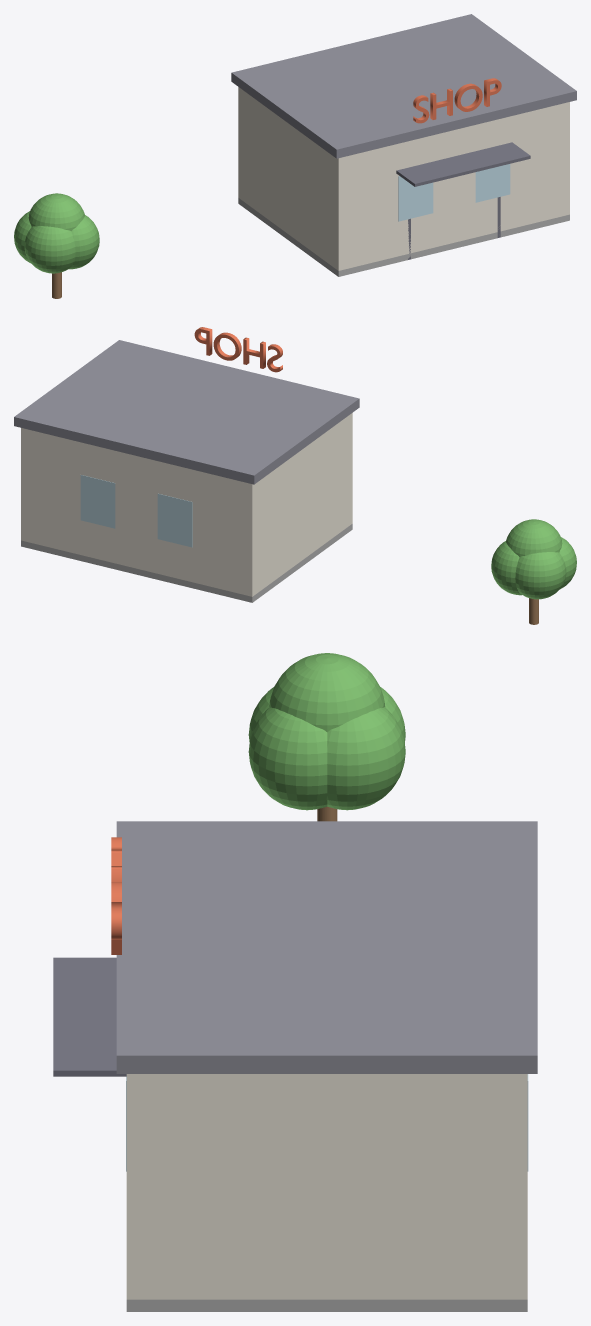
File: shop_building.gltf
3 renders of one model, top to bottom at view 1: azimuth 30°, elevation 25°; view 2: azimuth 150°, elevation 25°; view 3: azimuth 270°, elevation 25°, orthographic. The views are drawn at different scales.
Parts seen in each view (by area): view 1: Shop_Building_Roof, Floor_1_Wall_Front, Floor_1_Wall_Left, Tree_1, Shop_Building_Canopy, Floor_1_Slab, Shop_Building_RoofText_SHOP, Floor_1_Window_Front_0, Floor_1_Window_Front_1; view 2: Shop_Building_Roof, Floor_1_Wall_Back, Floor_1_Wall_Left, Tree_1, Floor_1_Slab, Floor_1_Window_Back_0, Floor_1_Window_Back_1, Shop_Building_RoofText_SHOP; view 3: Shop_Building_Roof, Floor_1_Wall_Right, Tree_1, Shop_Building_Canopy, Floor_1_Slab, Floor_1_Wall_Back, Floor_1_Wall_Front, Shop_Building_RoofText_SHOP.
Part boxes in pixels (x1,y1,x2,y2): Shop_Building_Roof: (231, 14, 576, 158); Floor_1_Wall_Front: (336, 102, 569, 270); Floor_1_Wall_Left: (240, 89, 335, 268); Tree_1: (14, 193, 99, 273); Shop_Building_Canopy: (396, 142, 530, 186); Floor_1_Slab: (238, 198, 569, 276); Shop_Building_RoofText_SHOP: (413, 78, 501, 123); Floor_1_Window_Front_0: (398, 176, 433, 221); Floor_1_Window_Front_1: (475, 164, 510, 202); Shop_Building_Roof: (14, 340, 359, 484); Floor_1_Wall_Back: (21, 428, 254, 596); Floor_1_Wall_Left: (255, 414, 350, 594); Tree_1: (491, 519, 576, 599); Floor_1_Slab: (21, 524, 352, 602); Floor_1_Window_Back_0: (157, 493, 192, 547); Floor_1_Window_Back_1: (80, 475, 115, 528); Shop_Building_RoofText_SHOP: (194, 327, 282, 372); Shop_Building_Roof: (116, 821, 537, 1073); Floor_1_Wall_Right: (136, 1074, 517, 1299); Tree_1: (248, 653, 405, 810); Shop_Building_Canopy: (53, 957, 126, 1076); Floor_1_Slab: (126, 1299, 527, 1311); Floor_1_Wall_Back: (517, 1074, 527, 1299); Floor_1_Wall_Front: (126, 1074, 136, 1299); Shop_Building_RoofText_SHOP: (111, 837, 121, 954).
Size of the model in its own units: 17.32 by 5.37 by 7.25.
